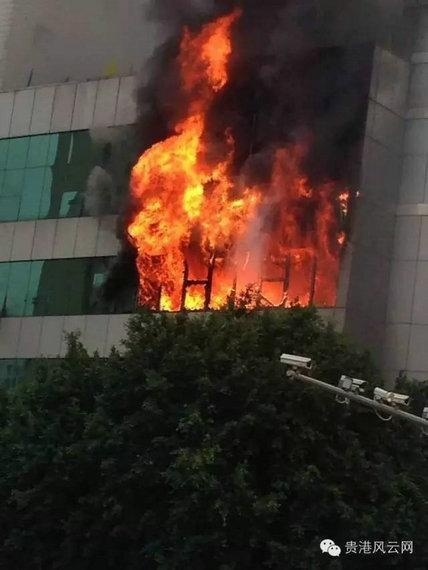fire: (125, 0, 351, 320)
